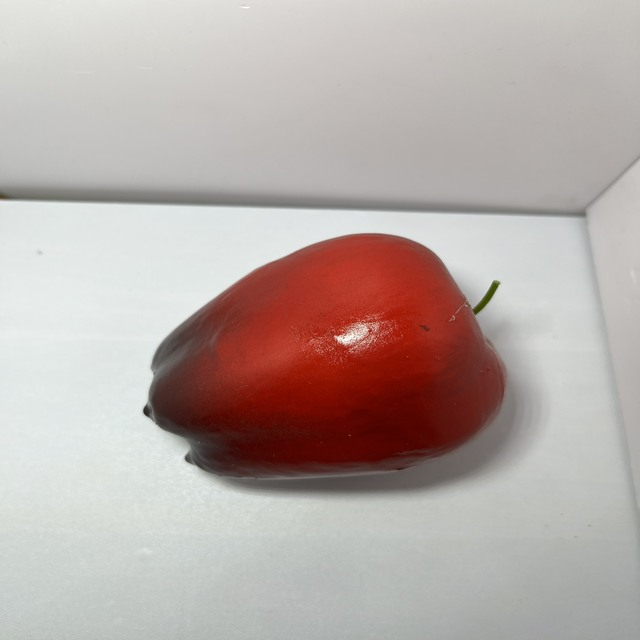Tao: (108, 190, 534, 541)
